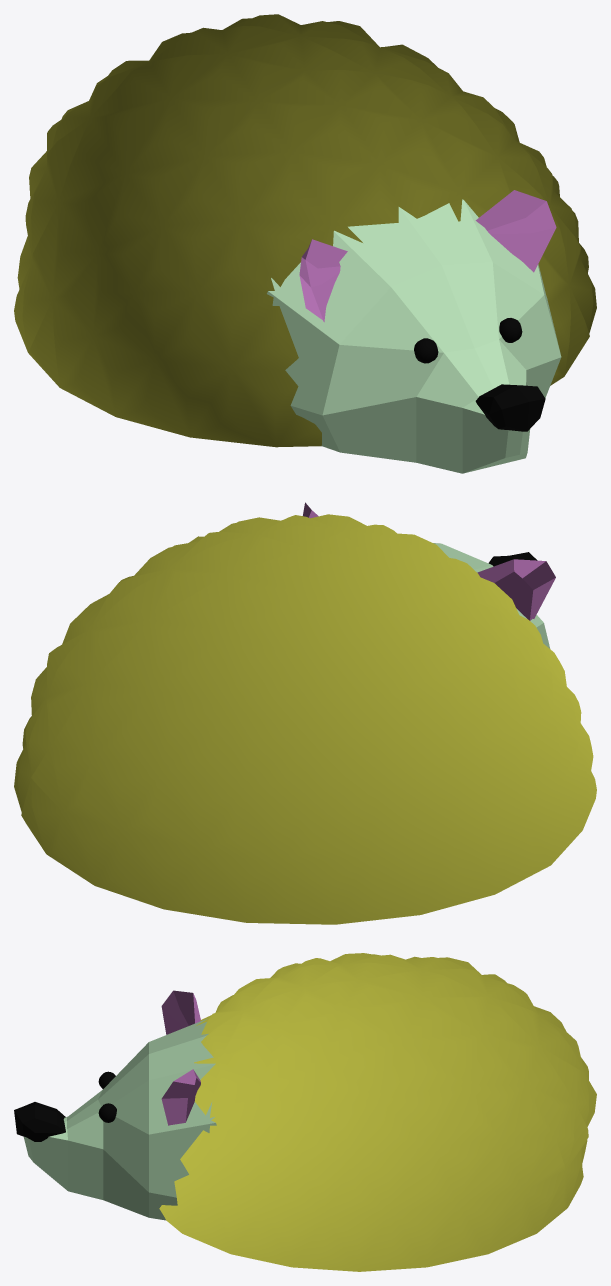
File: Normals The Hedgehog.fbx
3 views of the same model, one above another, from view 1: azimuth 30°, elevation 25°; view 2: azimuth 150°, elevation 25°; view 3: azimuth 270°, elevation 25° (orthographic). The views are drawn at different scales.
Visible parts, largest first — view 1: icosahedron, polymsh1, polymsh, cube, sphere; view 2: icosahedron, polymsh, polymsh1; view 3: icosahedron, polymsh1, polymsh, cube, sphere.
Boxes of the visible parts, x1=… form: icosahedron: x1=14, y1=14, x2=596, y2=447; polymsh1: x1=267, y1=199, x2=561, y2=473; polymsh: x1=299, y1=190, x2=556, y2=322; cube: x1=475, y1=384, x2=545, y2=431; sphere: x1=414, y1=318, x2=522, y2=363; icosahedron: x1=14, y1=514, x2=596, y2=924; polymsh: x1=303, y1=502, x2=555, y2=620; polymsh1: x1=433, y1=543, x2=550, y2=648; icosahedron: x1=159, y1=953, x2=596, y2=1271; polymsh1: x1=23, y1=1018, x2=216, y2=1220; polymsh: x1=161, y1=990, x2=200, y2=1125; cube: x1=14, y1=1102, x2=65, y2=1141; sphere: x1=98, y1=1071, x2=116, y2=1122.
Bounding box in the file's own units: 8.17 × 4.26 × 10.65.
